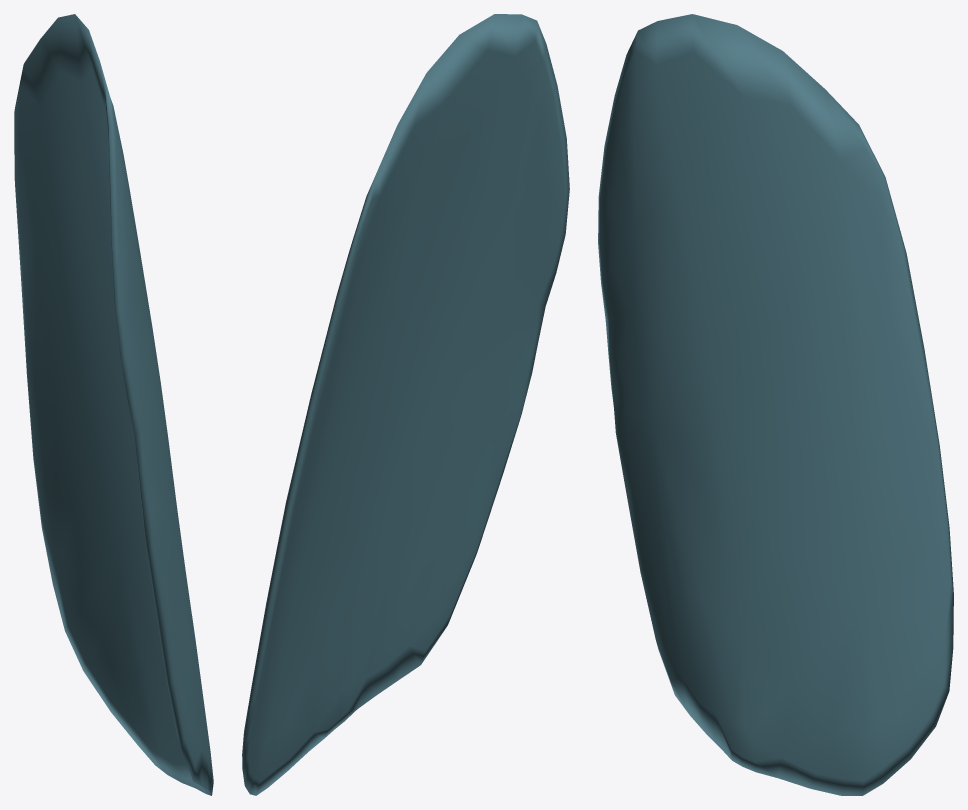
The model's file is Deltoid_humeral_insertion_left.glb.
3 views of the same model, side by side, from view 1: azimuth 30°, elevation 25°; view 2: azimuth 150°, elevation 25°; view 3: azimuth 270°, elevation 25° (orthographic). The views are drawn at different scales.
Parts seen in each view (by area): view 1: Deltoid_muscle-Humeral_insertion.l_Generated_Mesh_From_X3D.6; view 2: Deltoid_muscle-Humeral_insertion.l_Generated_Mesh_From_X3D.6; view 3: Deltoid_muscle-Humeral_insertion.l_Generated_Mesh_From_X3D.6.
Boxes of the visible parts, x1=… form: Deltoid_muscle-Humeral_insertion.l_Generated_Mesh_From_X3D.6: x1=14, y1=14, x2=213, y2=795; Deltoid_muscle-Humeral_insertion.l_Generated_Mesh_From_X3D.6: x1=242, y1=14, x2=569, y2=795; Deltoid_muscle-Humeral_insertion.l_Generated_Mesh_From_X3D.6: x1=598, y1=14, x2=953, y2=795.
Size of the model in its own units: 0.0101 by 0.0413 by 0.0187.
